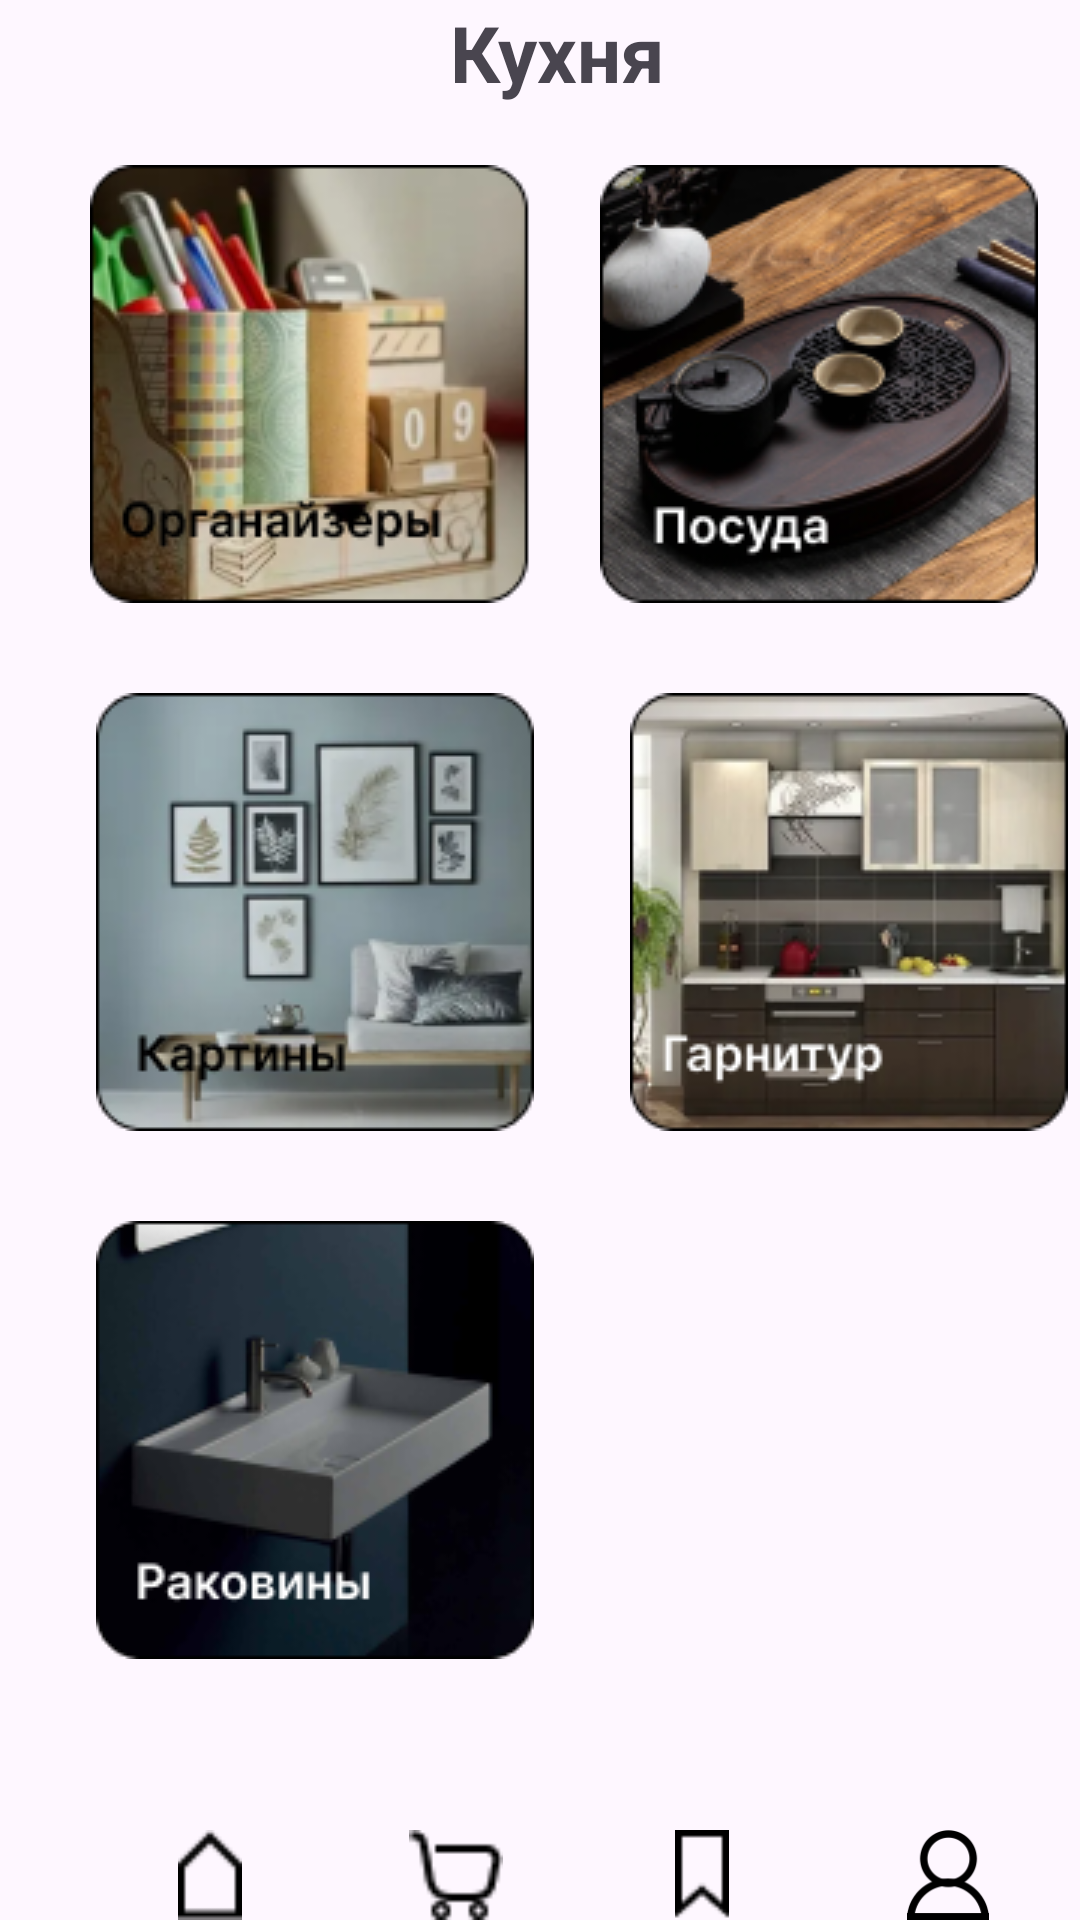

Locate icon controls on the screen. Image size 1080x1920, boxes as (x1, y1, x2, y2).
cart: (409, 1830, 503, 1920)
favorites: (675, 1830, 729, 1918)
home: (178, 1830, 242, 1920)
user: (907, 1830, 989, 1920)
